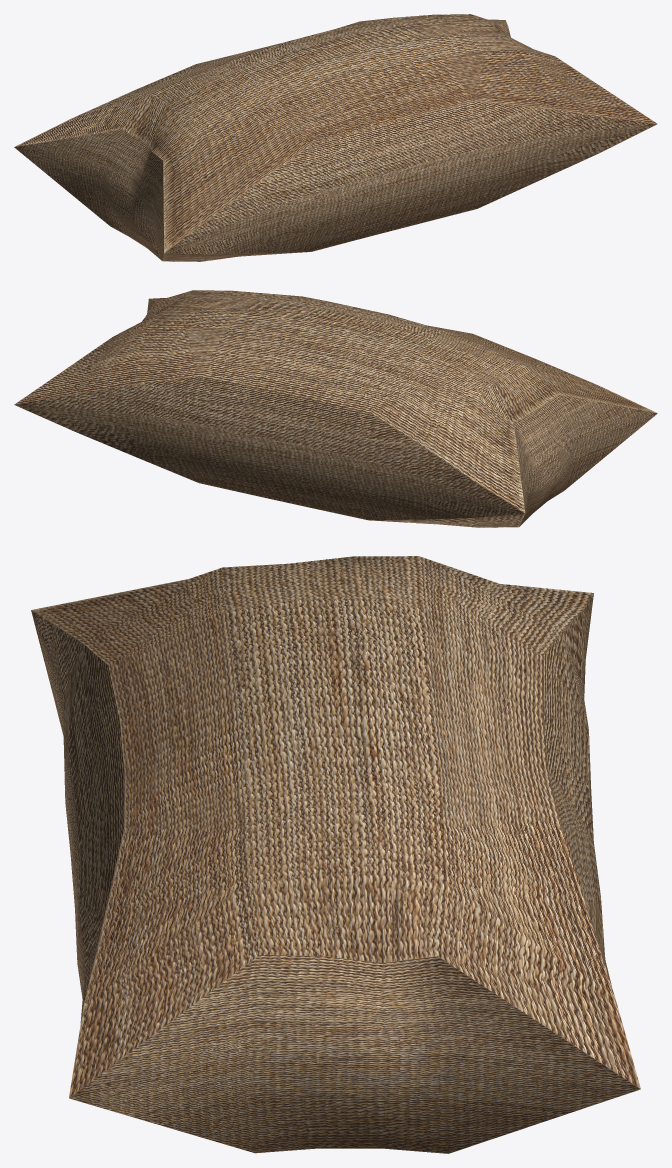
File: zandzak.FBX
The picture shows the model from 3 angles, top to bottom: view 1: azimuth 30°, elevation 25°; view 2: azimuth 150°, elevation 25°; view 3: azimuth 270°, elevation 25°; orthographic projection. The views are drawn at different scales.
Visible parts, largest first — view 1: Box001; view 2: Box001; view 3: Box001.
Boxes of the visible parts, box(x1,y1,x2,y2) form: Box001: box(14, 14, 657, 261); Box001: box(14, 290, 657, 527); Box001: box(31, 556, 640, 1153).
Bounding box in the file's own units: 51.78 × 15.56 × 26.93.
